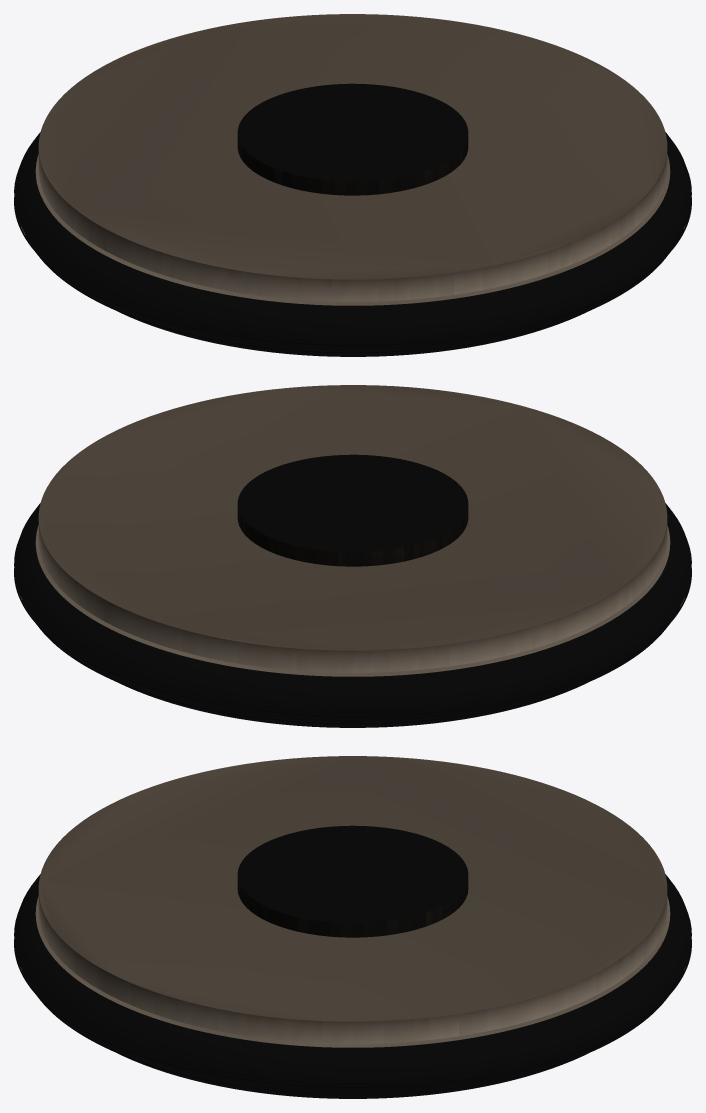
The model's file is r17-lamp-assembly.glb.
The picture shows the model from 3 angles, top to bottom: view 1: azimuth 30°, elevation 25°; view 2: azimuth 150°, elevation 25°; view 3: azimuth 270°, elevation 25°; orthographic projection.
Parts seen in each view (by area): view 1: Ceiling_Light_Backplate, Ceiling_Light_Housing, Ceiling_Light_Mount, Ceiling_Light_Trim_1, Ceiling_Light_Diffuser, Ceiling_Light_Trim_2; view 2: Ceiling_Light_Backplate, Ceiling_Light_Housing, Ceiling_Light_Mount, Ceiling_Light_Trim_1, Ceiling_Light_Diffuser, Ceiling_Light_Trim_2; view 3: Ceiling_Light_Backplate, Ceiling_Light_Housing, Ceiling_Light_Mount, Ceiling_Light_Trim_1, Ceiling_Light_Diffuser, Ceiling_Light_Trim_2.
Boxes of the visible parts, x1,y1,x2,y2 form: Ceiling_Light_Backplate: (38, 14, 667, 301); Ceiling_Light_Housing: (14, 132, 691, 353); Ceiling_Light_Mount: (237, 83, 468, 195); Ceiling_Light_Trim_1: (14, 197, 691, 345); Ceiling_Light_Diffuser: (119, 312, 586, 356); Ceiling_Light_Trim_2: (40, 258, 665, 352); Ceiling_Light_Backplate: (38, 385, 667, 672); Ceiling_Light_Housing: (14, 503, 691, 724); Ceiling_Light_Mount: (237, 454, 468, 566); Ceiling_Light_Trim_1: (14, 568, 691, 716); Ceiling_Light_Diffuser: (119, 683, 586, 727); Ceiling_Light_Trim_2: (40, 629, 665, 723); Ceiling_Light_Backplate: (38, 756, 667, 1043); Ceiling_Light_Housing: (14, 874, 691, 1095); Ceiling_Light_Mount: (237, 825, 468, 937); Ceiling_Light_Trim_1: (14, 939, 691, 1087); Ceiling_Light_Diffuser: (119, 1054, 586, 1098); Ceiling_Light_Trim_2: (40, 1000, 665, 1094).
Size of the model in its own units: 0.4701 by 0.076 by 0.4701.
